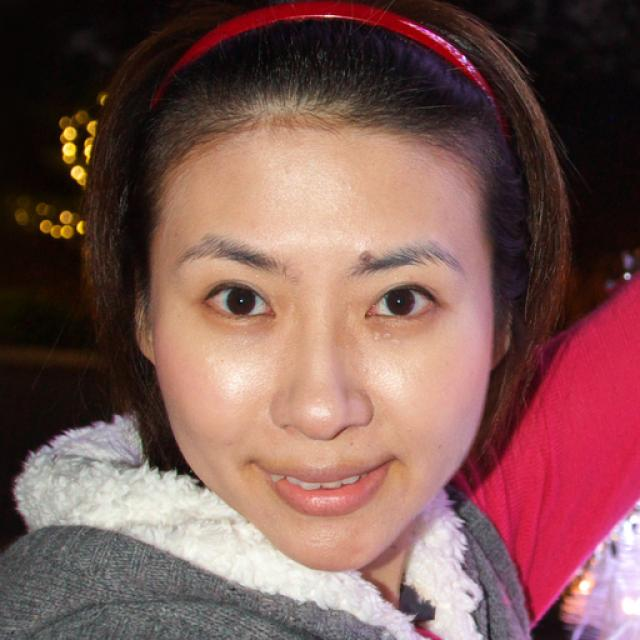Acne: (347, 242, 377, 269)
